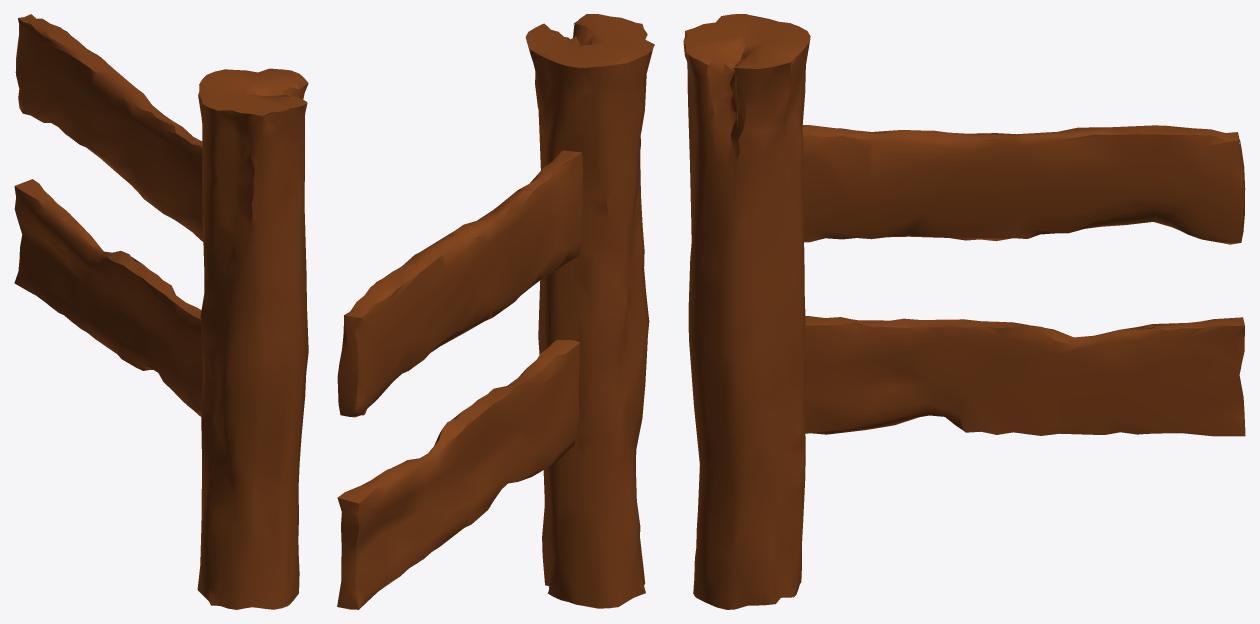
Rendered from Fence.fbx.
3 views of the same model, side by side, from view 1: azimuth 30°, elevation 25°; view 2: azimuth 150°, elevation 25°; view 3: azimuth 270°, elevation 25° (orthographic). The views are drawn at different scales.
Visible parts, largest first — view 1: Cylinder, Cube.002, Cube.001; view 2: Cylinder, Cube.002, Cube.001; view 3: Cylinder, Cube.002, Cube.001.
Boxes of the visible parts, <box> form: Cylinder: <box>197,68,308,609</box>; Cube.002: <box>14,179,202,416</box>; Cube.001: <box>15,14,203,241</box>; Cylinder: <box>525,14,654,608</box>; Cube.002: <box>337,339,579,609</box>; Cube.001: <box>337,150,582,417</box>; Cylinder: <box>683,14,810,609</box>; Cube.002: <box>804,316,1245,436</box>; Cube.001: <box>800,125,1245,244</box>.
Size of the model in its own units: 77.48 by 359 by 332.
